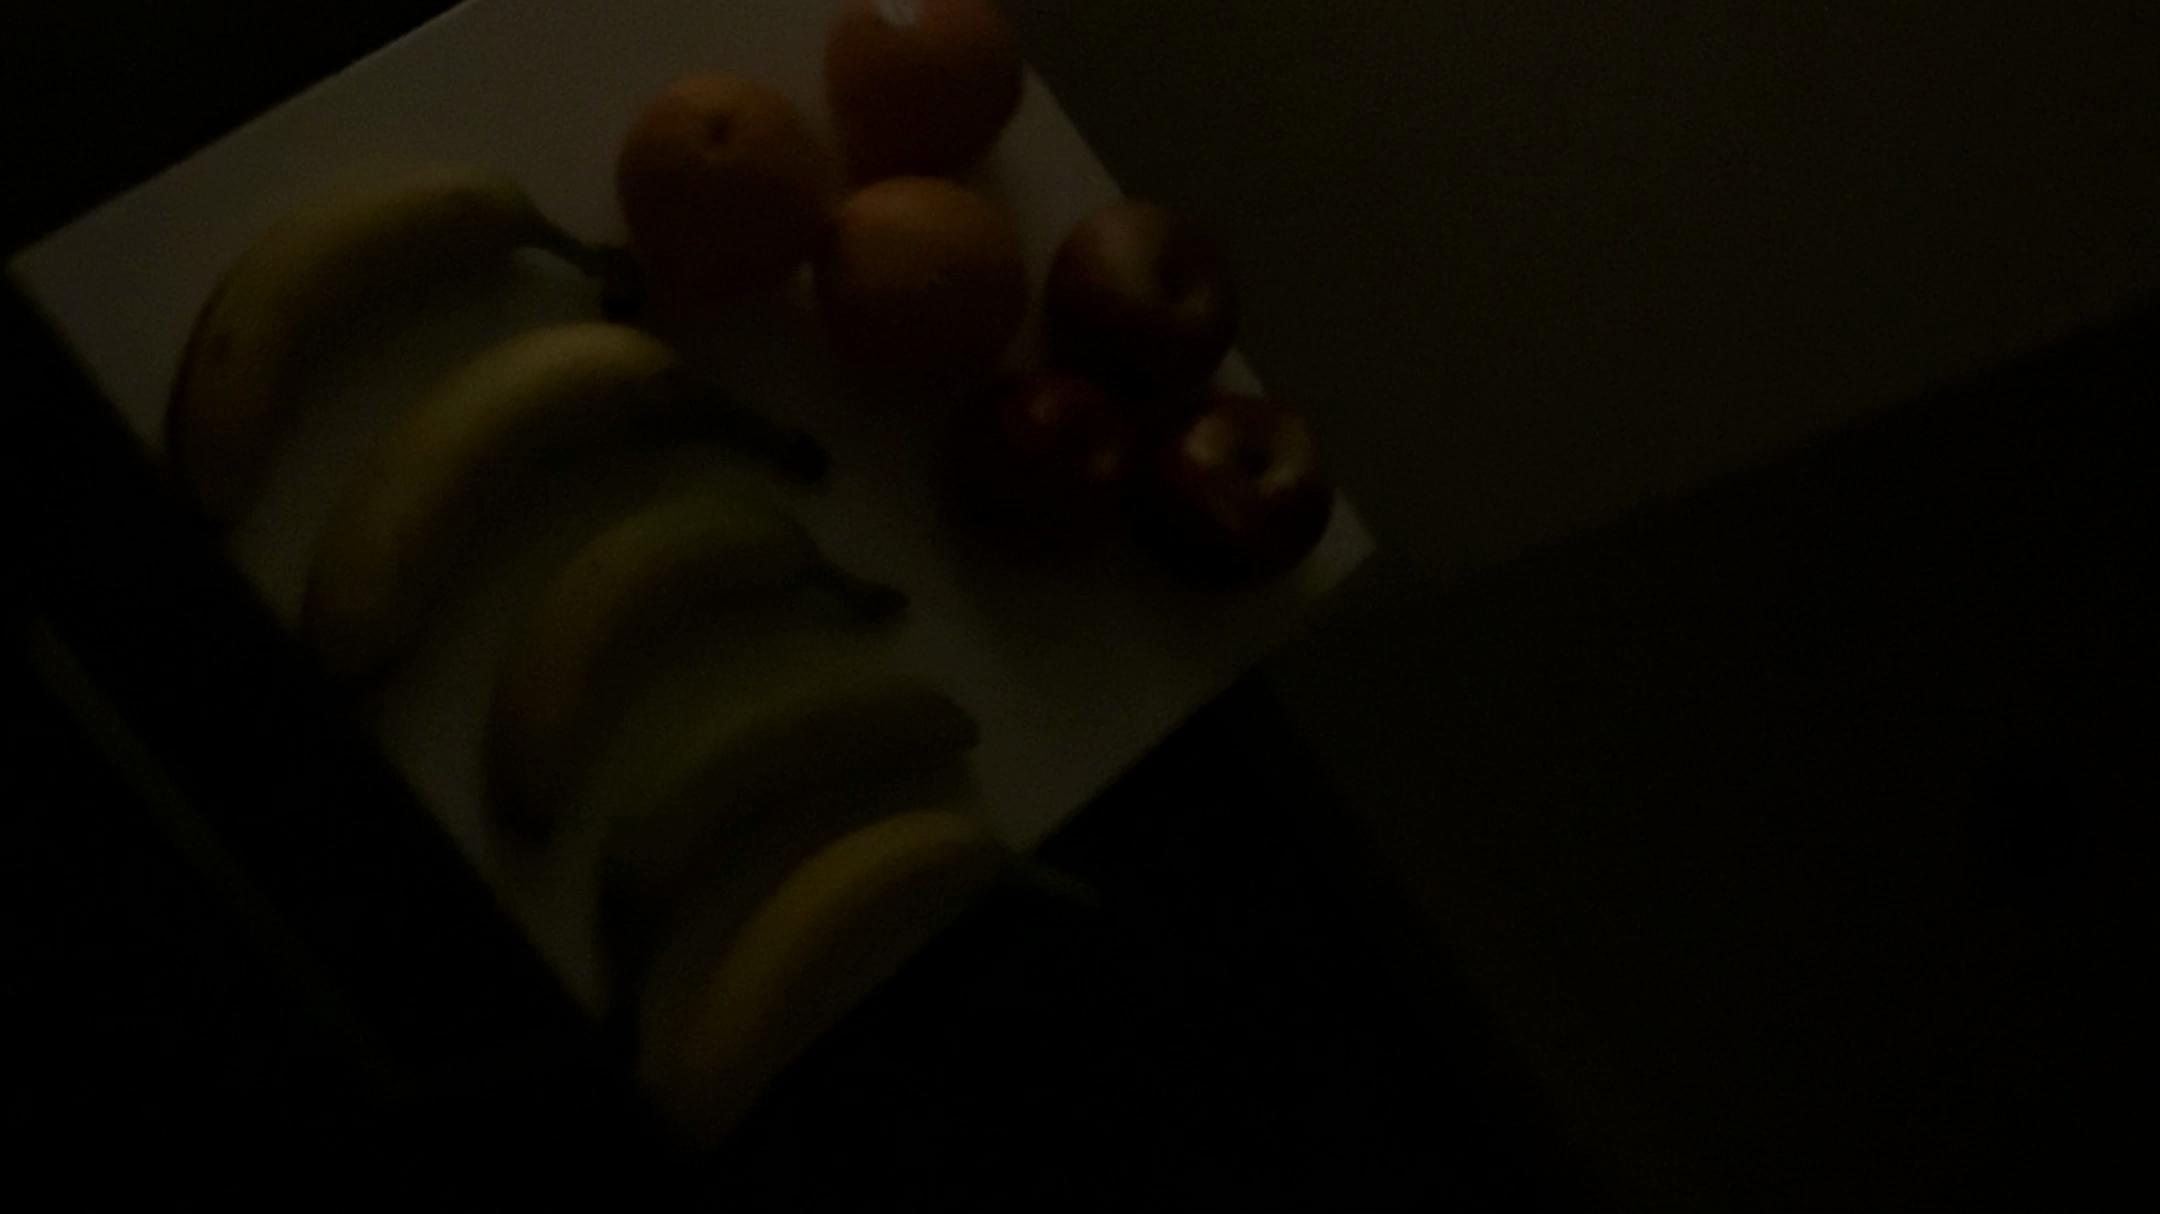apple: (946, 381, 1156, 608), (1047, 188, 1255, 405), (1145, 390, 1340, 614)
banana: (131, 177, 648, 521), (571, 653, 975, 1031), (301, 321, 714, 678), (485, 496, 893, 841), (688, 816, 1012, 1123)
orange: (789, 160, 1028, 411), (622, 62, 826, 295), (811, 1, 1053, 169)
